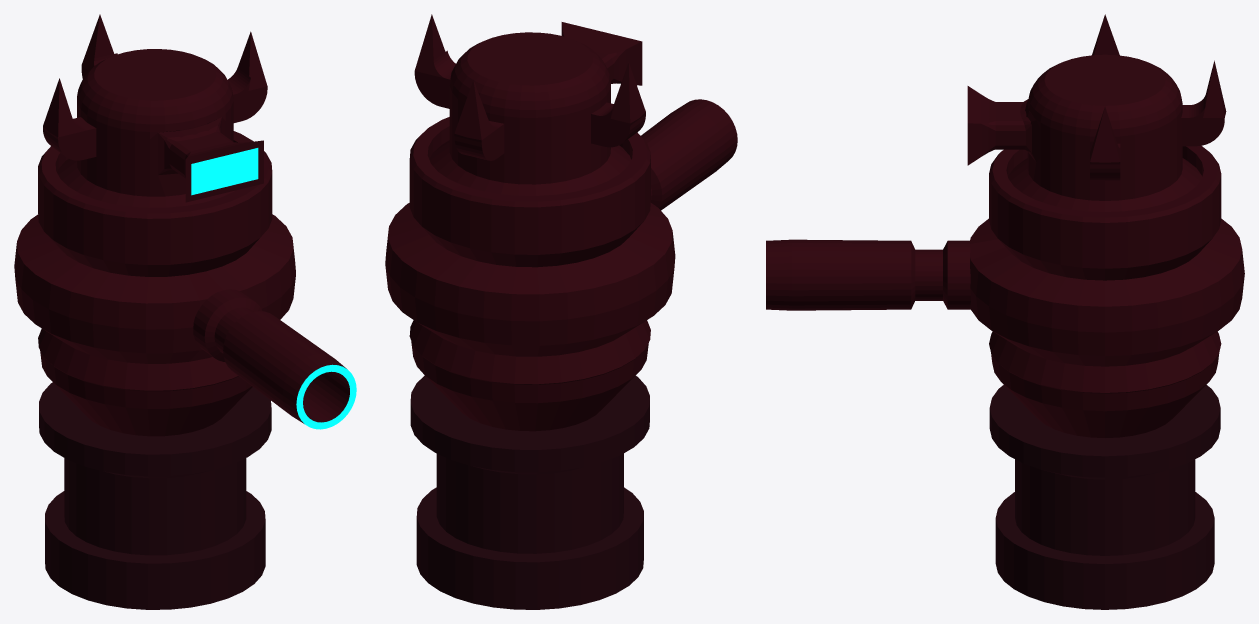
File: LaserTurret.fbx
The picture shows the model from 3 angles, left to right: view 1: azimuth 30°, elevation 25°; view 2: azimuth 150°, elevation 25°; view 3: azimuth 270°, elevation 25°; orthographic projection. The views are drawn at different scales.
Visible parts, largest first — view 1: Turret; view 2: Turret; view 3: Turret.
Boxes of the visible parts, <box> form: Turret: <box>14,14,356,609</box>; Turret: <box>385,14,737,609</box>; Turret: <box>766,14,1244,609</box>.
Size of the model in its own units: 425 by 248 by 493.
